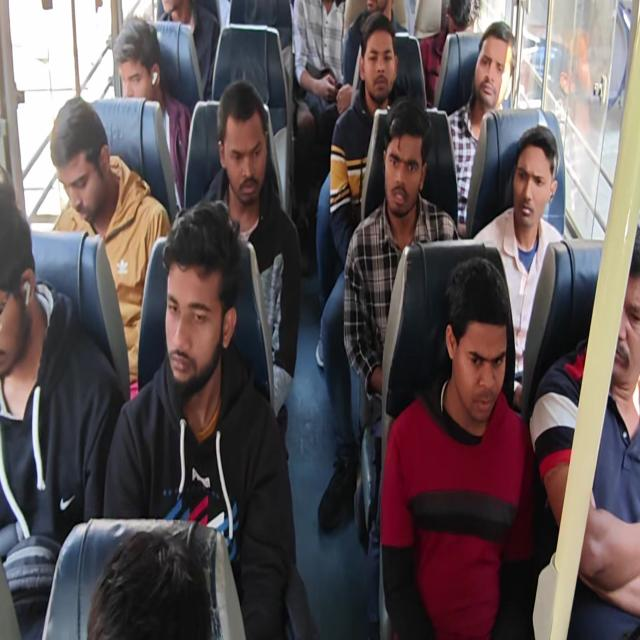person: (103, 524, 224, 640), (444, 266, 513, 446), (0, 157, 44, 397), (162, 253, 230, 398), (591, 245, 640, 413), (53, 112, 107, 237), (215, 95, 267, 205), (383, 121, 425, 224), (511, 149, 556, 234), (356, 36, 394, 113), (109, 34, 155, 97), (478, 28, 511, 106), (442, 0, 480, 46), (352, 0, 393, 30), (156, 0, 188, 23)
